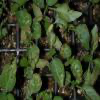Bell_pepper leaf spot: (1, 57, 18, 92), (55, 3, 83, 23), (14, 8, 32, 35), (76, 23, 90, 51), (28, 72, 42, 96), (70, 58, 83, 83), (29, 16, 43, 39), (26, 44, 40, 66), (46, 22, 56, 48), (59, 43, 72, 60), (88, 68, 99, 86), (37, 58, 50, 71), (23, 66, 35, 80)
